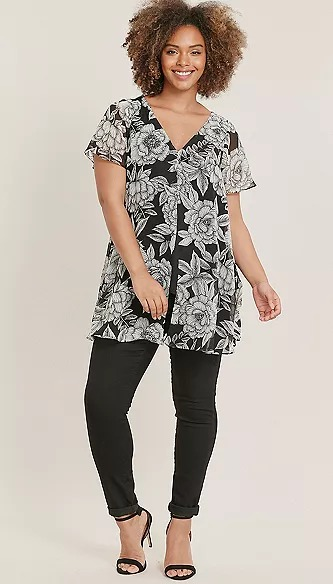C_W_pants: (86, 339, 222, 523)
C_short blouse: (82, 96, 259, 358)
